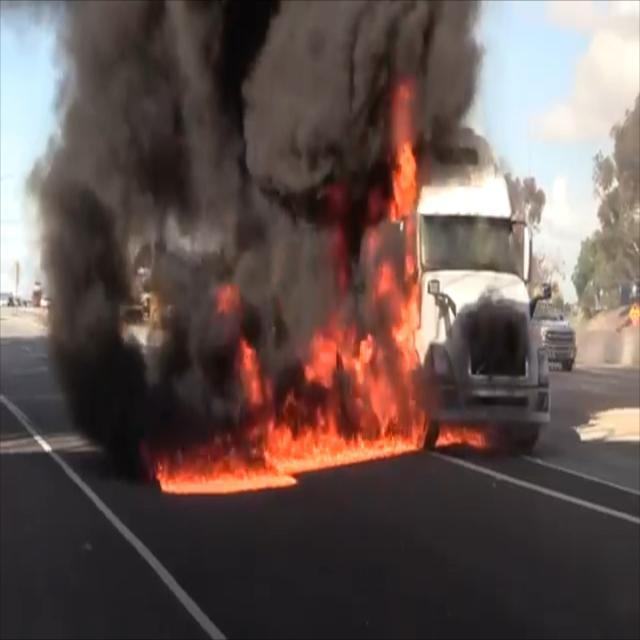fire: (137, 203, 487, 490)
